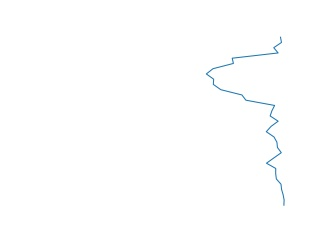distalBar: (196, 38, 290, 205)
